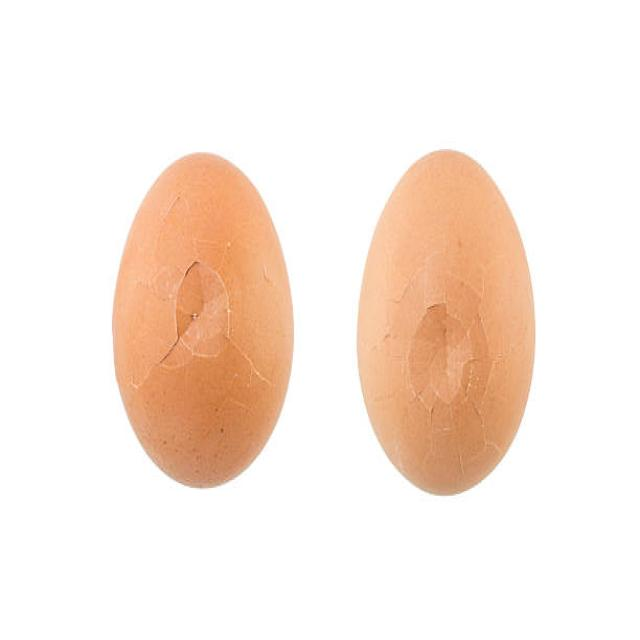Crack: (137, 194, 276, 409), (380, 237, 514, 450)
Egg: (102, 137, 305, 505), (352, 136, 551, 510)
